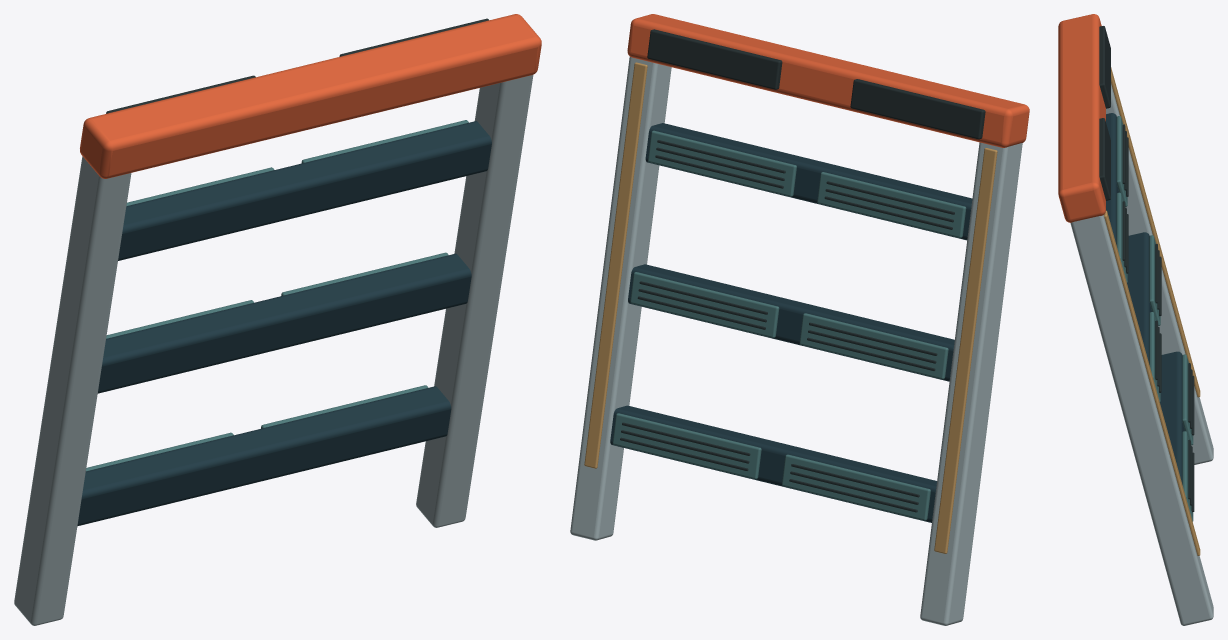
The model's file is SM_Mk2_RampExtension.fbx.
3 views of the same model, side by side, from view 1: azimuth 30°, elevation 25°; view 2: azimuth 150°, elevation 25°; view 3: azimuth 270°, elevation 25° (orthographic). The views are drawn at different scales.
Visible parts, largest first — view 1: SM_Mk2_RampExtension; view 2: SM_Mk2_RampExtension; view 3: SM_Mk2_RampExtension.
Part boxes in pixels (x1,y1,x2,y2): SM_Mk2_RampExtension: (14, 14, 541, 625); SM_Mk2_RampExtension: (570, 14, 1029, 625); SM_Mk2_RampExtension: (1058, 14, 1213, 625).
Bounding box in the file's own units: 33.8 × 12.81 × 40.37.
